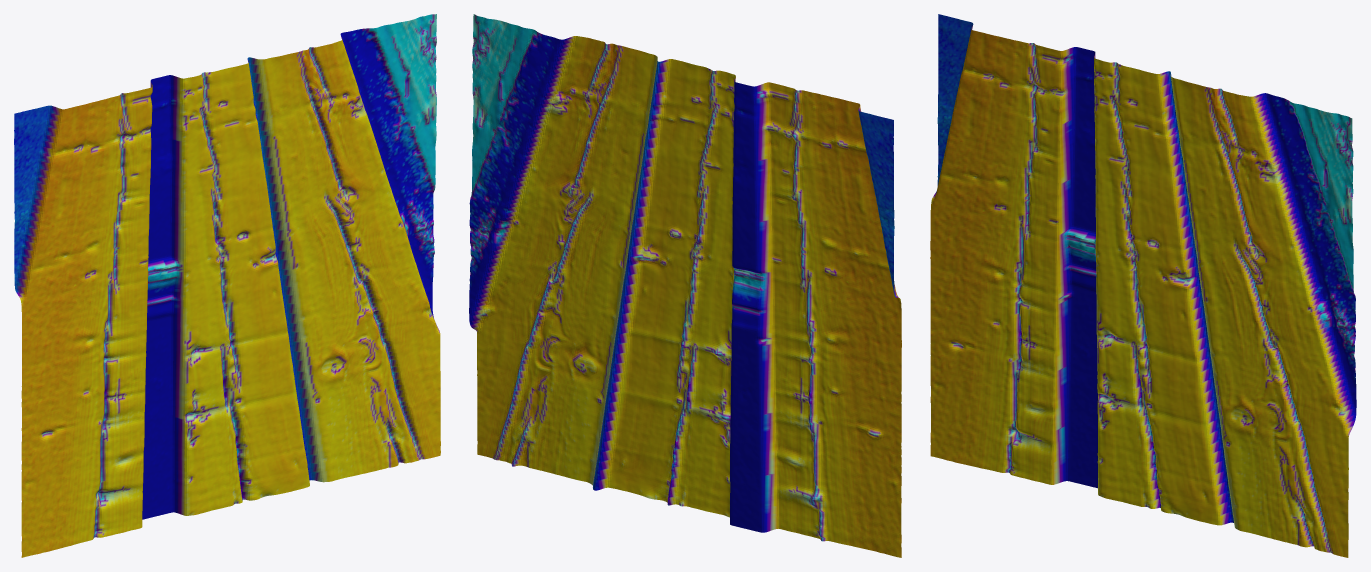
3 views of the same model, side by side, from view 1: azimuth 30°, elevation 25°; view 2: azimuth 150°, elevation 25°; view 3: azimuth 330°, elevation 25° (orthographic).
Parts seen in each view (by area): view 1: world; view 2: world; view 3: world.
Boxes of the visible parts, box(x1,y1,x2,y2) form: world: box(14, 14, 440, 557); world: box(469, 14, 901, 557); world: box(930, 14, 1356, 557).
Bounding box in the file's own units: 299 × 299 × 12.
